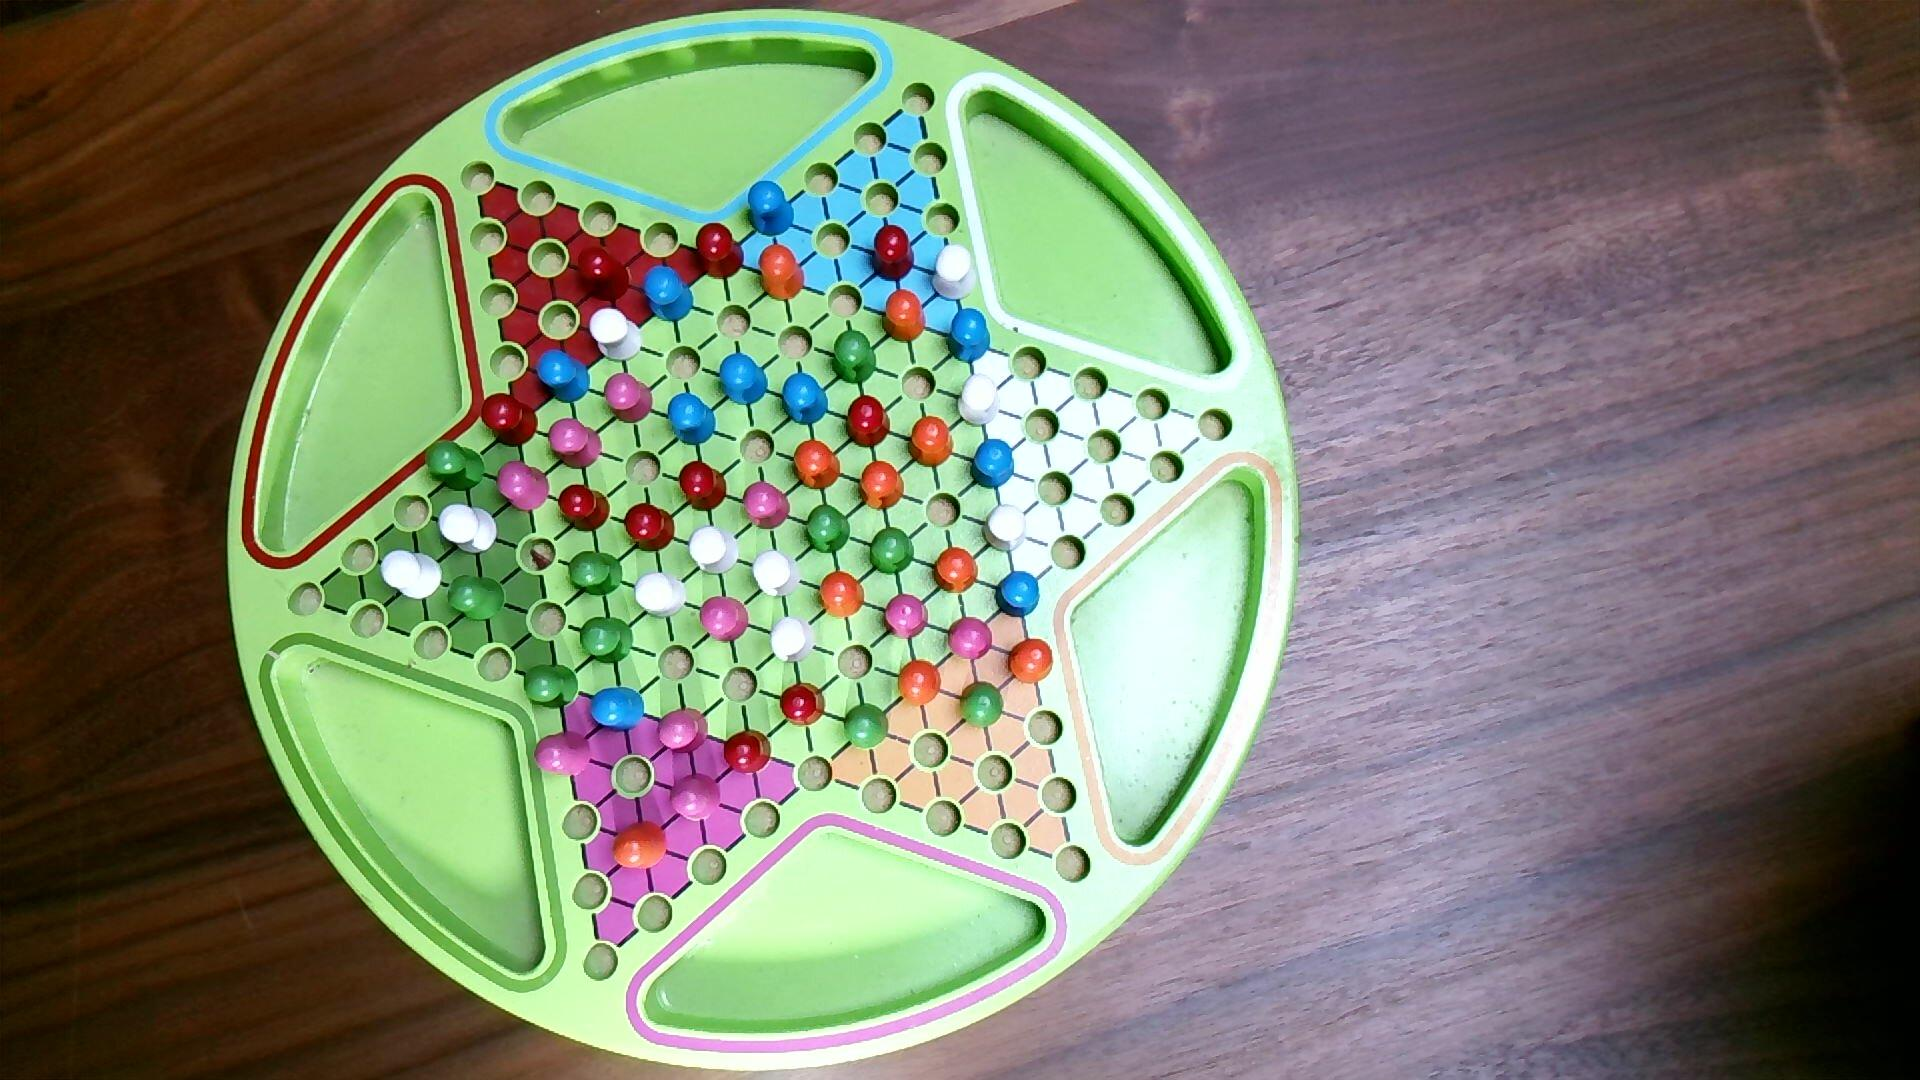B: (641, 264, 696, 326), (535, 348, 593, 406), (717, 349, 770, 407), (746, 179, 796, 240), (667, 390, 717, 448), (589, 684, 647, 735), (781, 372, 829, 429), (945, 309, 993, 367), (969, 436, 1017, 491), (994, 568, 1043, 620)
G: (423, 436, 488, 495), (447, 571, 509, 625), (578, 615, 636, 667), (522, 662, 582, 712), (567, 549, 626, 599), (829, 328, 880, 386), (957, 679, 1006, 733), (868, 525, 916, 578), (841, 702, 891, 752), (804, 502, 852, 554)
O: (611, 818, 669, 874), (756, 243, 807, 305), (856, 458, 907, 512), (791, 438, 843, 492), (906, 414, 956, 469), (881, 287, 928, 345), (1005, 636, 1056, 686), (818, 568, 866, 620), (934, 545, 980, 597), (898, 657, 943, 709)
R: (480, 392, 541, 448), (575, 243, 632, 302), (694, 220, 746, 281), (556, 483, 613, 535), (624, 500, 676, 555), (676, 459, 729, 514), (870, 223, 916, 284), (844, 393, 893, 450), (723, 727, 774, 777), (779, 682, 827, 729)
R2: (531, 728, 595, 781), (496, 458, 553, 516), (547, 415, 604, 472), (669, 771, 725, 825), (603, 371, 655, 426), (655, 707, 711, 757), (742, 479, 793, 533), (700, 593, 752, 644), (884, 591, 931, 642), (945, 616, 996, 663)
W: (380, 549, 444, 603), (438, 501, 498, 556), (589, 306, 645, 364), (930, 243, 980, 305), (688, 524, 742, 578), (633, 570, 688, 622), (752, 546, 804, 601), (957, 371, 1004, 430), (769, 615, 818, 667), (981, 502, 1029, 556)
